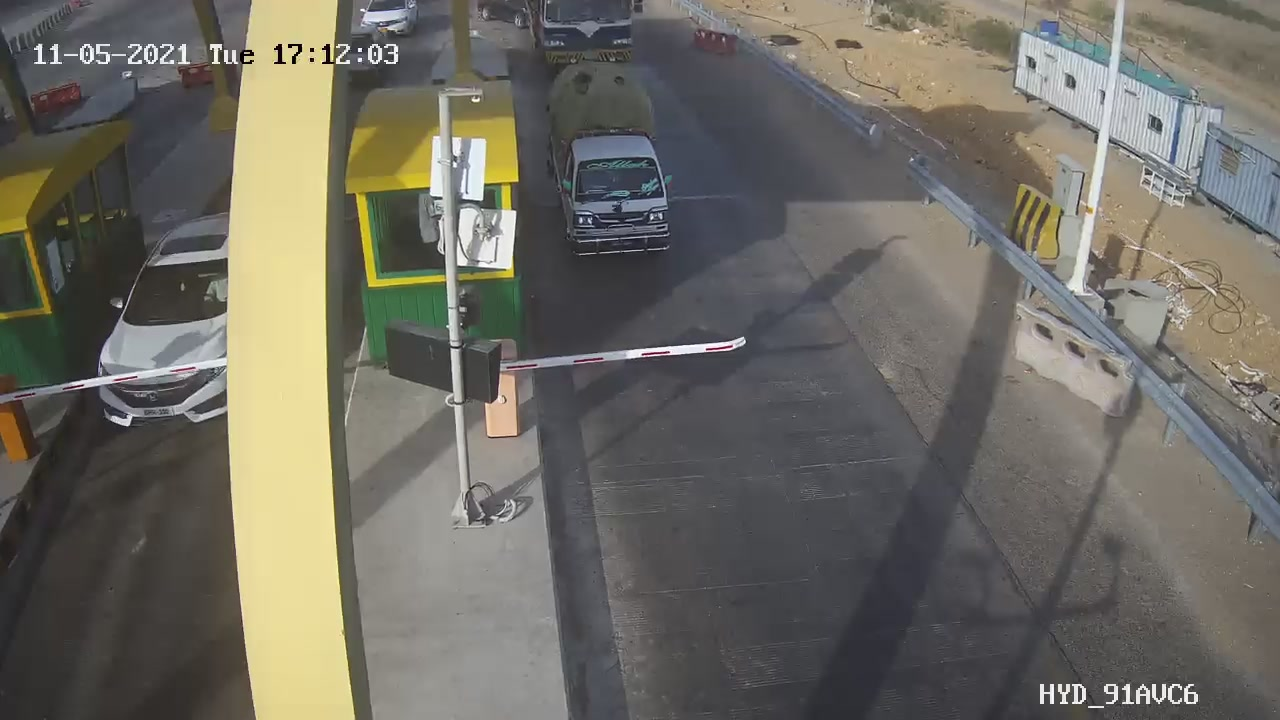F1: (527, 57, 700, 274)
